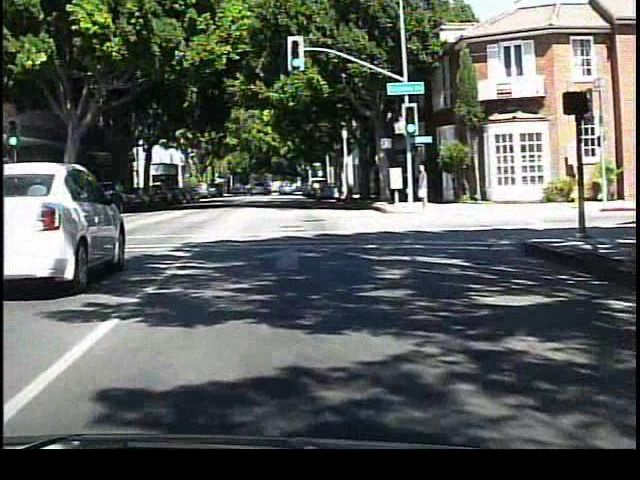person: (414, 158, 435, 212)
